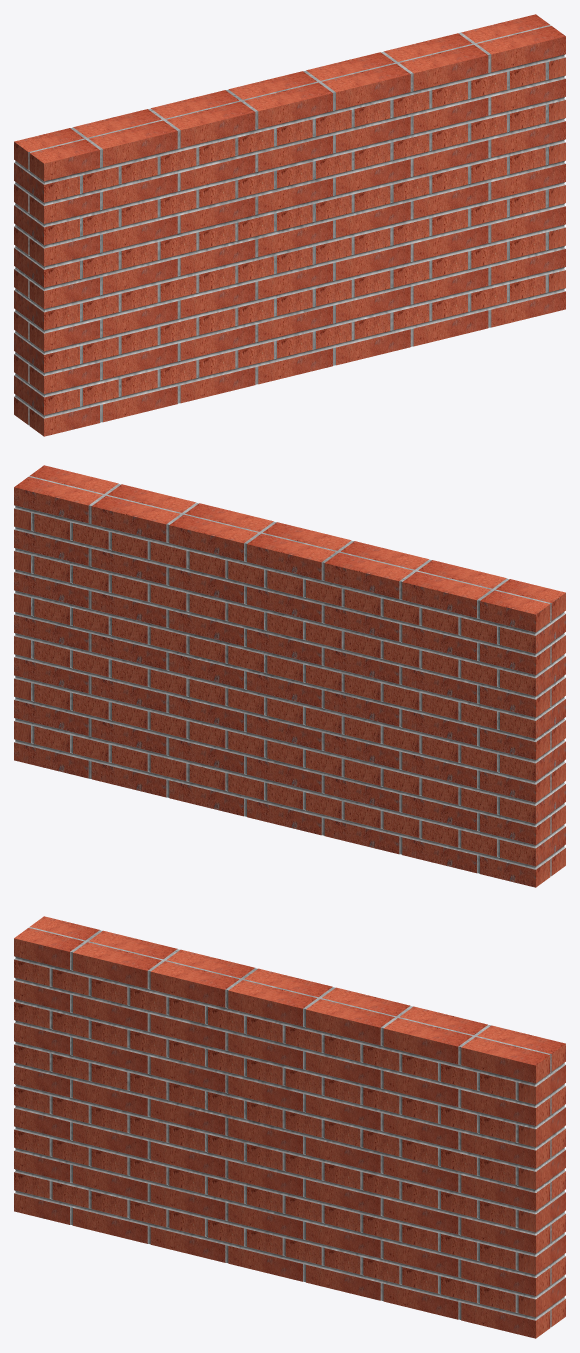
Rendered from glb-31.glb.
The picture shows the model from 3 angles, top to bottom: view 1: azimuth 30°, elevation 25°; view 2: azimuth 150°, elevation 25°; view 3: azimuth 330°, elevation 25°; orthographic projection.
Visible parts, largest first — view 1: Box520; view 2: Box520; view 3: Box520.
Boxes of the visible parts, box(x1,y1,x2,y2) form: Box520: box(14, 14, 565, 436); Box520: box(14, 465, 565, 887); Box520: box(14, 916, 565, 1338).
Bounding box in the file's own units: 5 × 2.5 × 0.5.
Materials: 2 (2 with a texture image).
